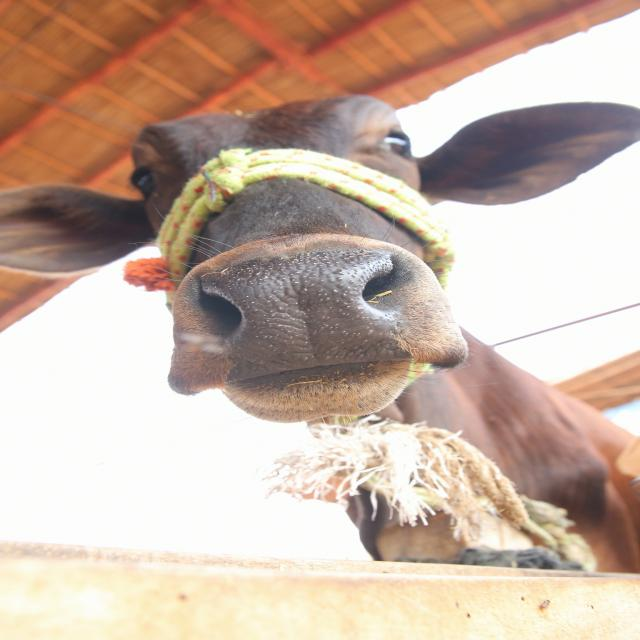muzzles: (167, 245, 429, 384)
